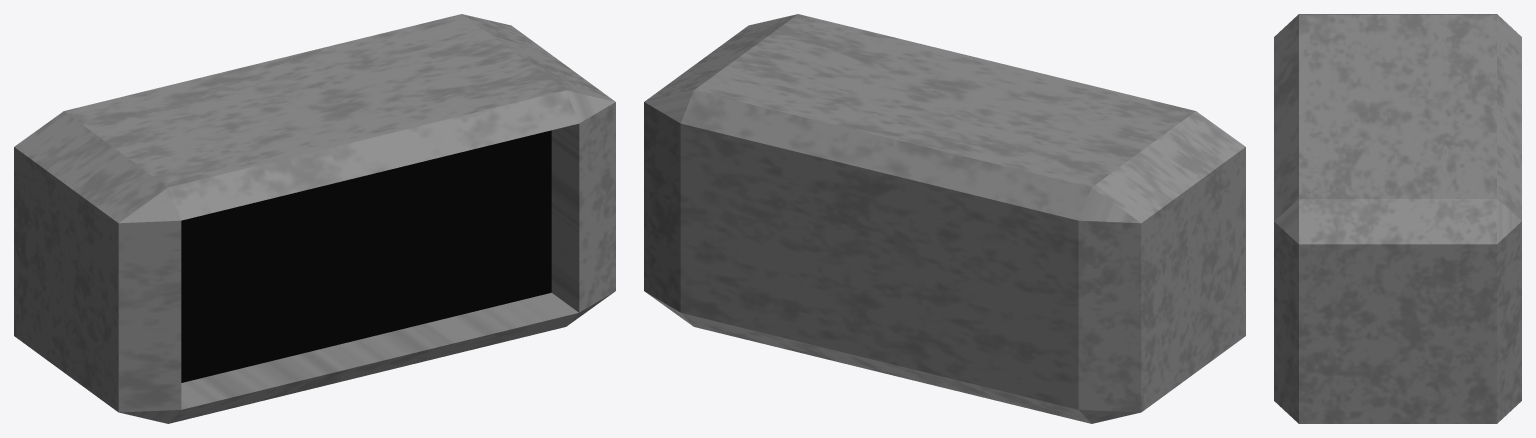
The model's file is digital clock.fbx.
3 renders of one model, left to right at view 1: azimuth 30°, elevation 25°; view 2: azimuth 150°, elevation 25°; view 3: azimuth 270°, elevation 25°, orthographic. The views are drawn at different scales.
Parts seen in each view (by area): view 1: Cube, Cube.001; view 2: Cube; view 3: Cube.
Boxes of the visible parts, bbox=[...] form: Cube: bbox=[14, 14, 615, 423]; Cube.001: bbox=[181, 130, 551, 382]; Cube: bbox=[644, 14, 1245, 423]; Cube: bbox=[1274, 14, 1521, 423].
Size of the model in its own units: 57.22 by 26 by 26.
